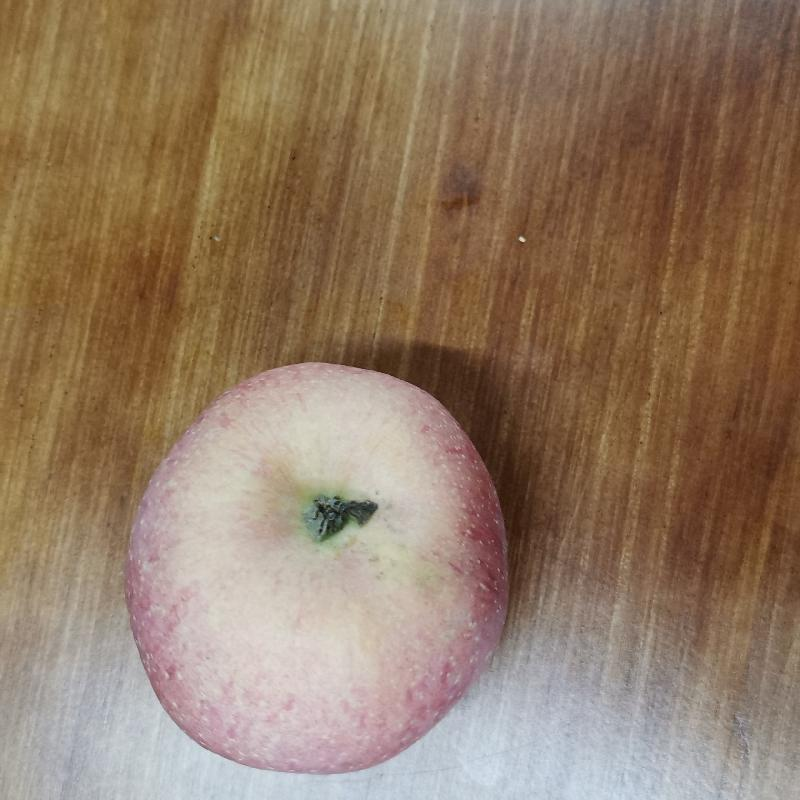apples: (118, 362, 527, 777)
